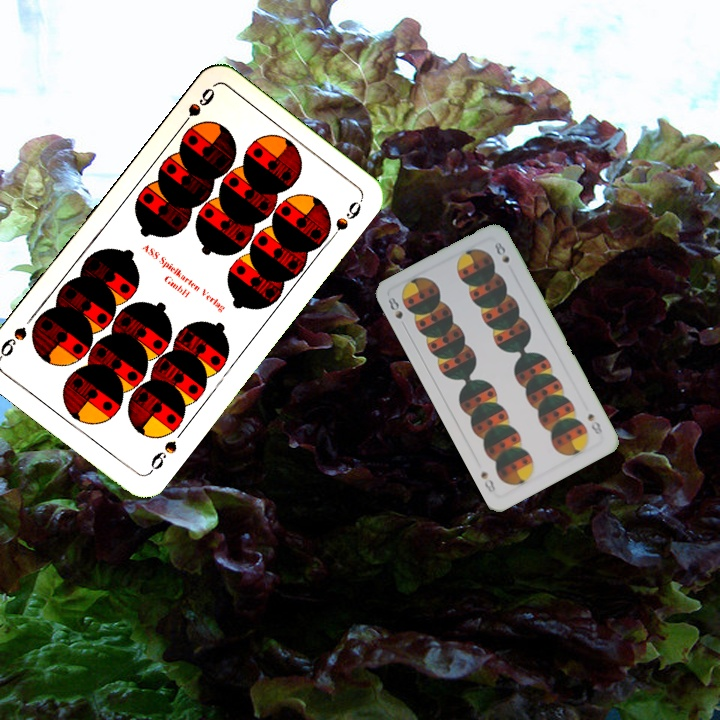S8: (384, 293, 409, 331), (583, 409, 605, 437)
S9: (174, 83, 218, 133), (144, 436, 180, 477)
